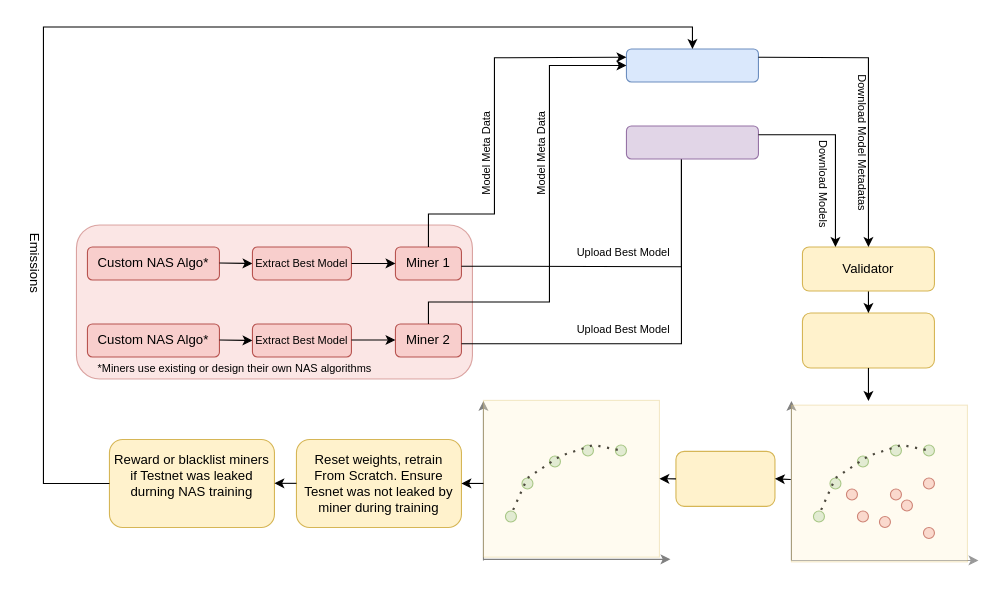
Image size: 1007x589. Some labels were removed from this diagram. Here are the shapes that lost their labels. From the top down, the centre of each, then its label:
point (691, 65): Chain
point (691, 142): HuggingFace Model Repository
point (867, 340): Validate test set on models and draw pareto
point (725, 478): Separate Optimal Answers
